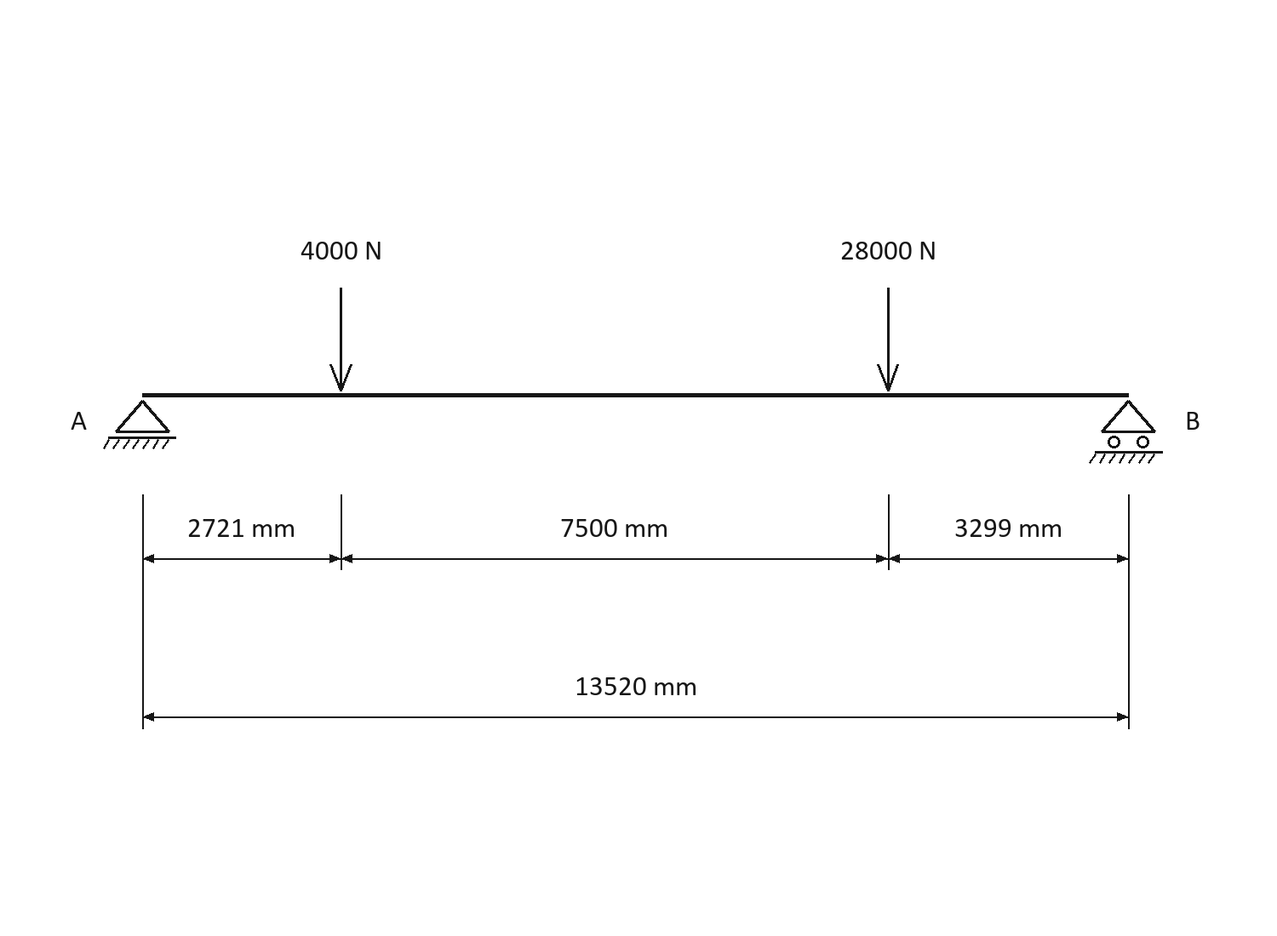pin_support: (103, 400, 176, 449)
point_load: (329, 288, 352, 391), (877, 288, 899, 391)
roller_support: (1089, 400, 1163, 464)
